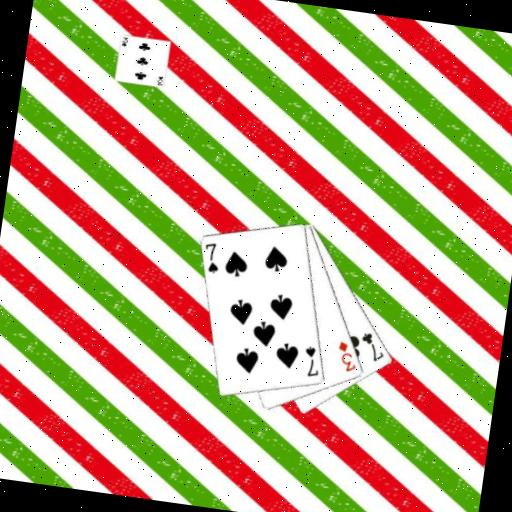3D: (333, 338, 361, 375)
7C: (356, 328, 389, 364)
7S: (299, 342, 324, 380), (199, 238, 224, 276)
